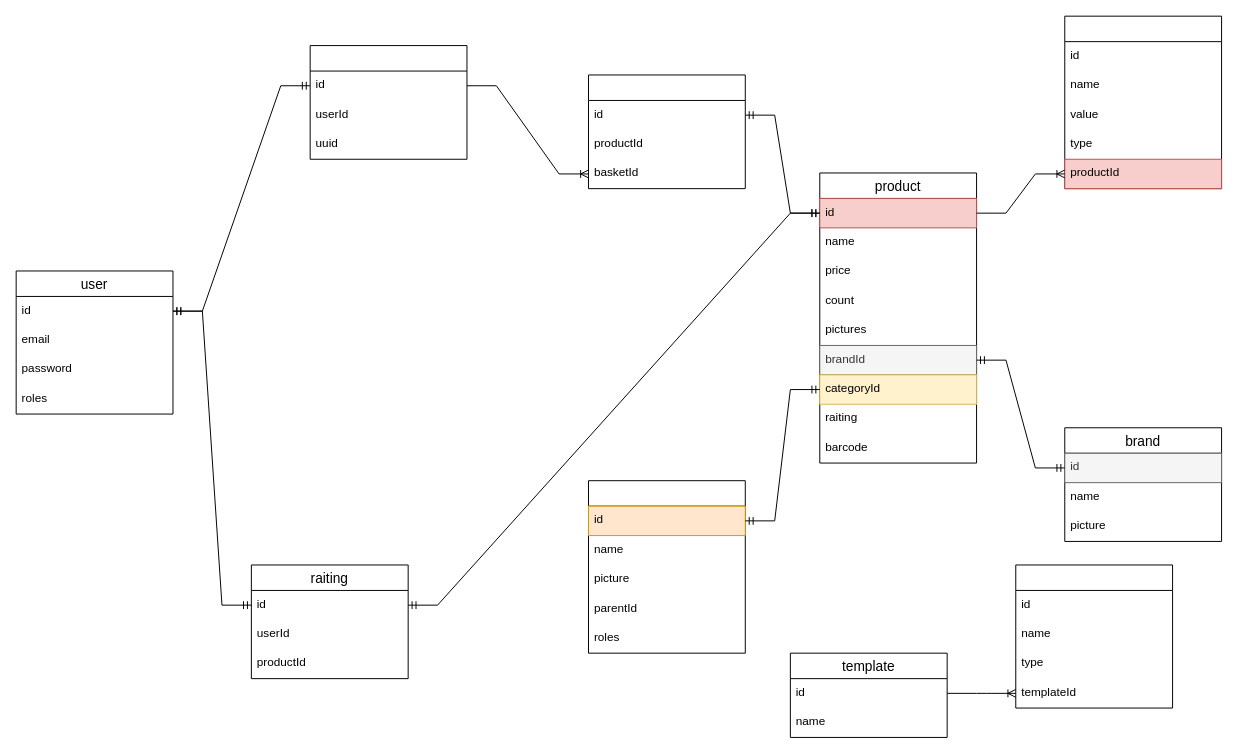
The diagram is 1238 pixels wide and 754 high, and some of its shapes have lost their labels. The shapes that lost their labels are listed below. From the top down, each one's box as (x1, y1, x2, y2) in pixels, then its label:
(309, 45, 467, 159): basket
(1064, 15, 1222, 189): product-info
(588, 74, 745, 189): basket-product
(588, 480, 745, 653): category
(1015, 564, 1173, 708): property
